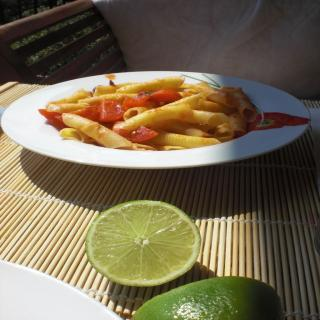Lemon: (85, 199, 203, 287), (127, 275, 283, 320)
Pasta: (36, 74, 259, 149)
